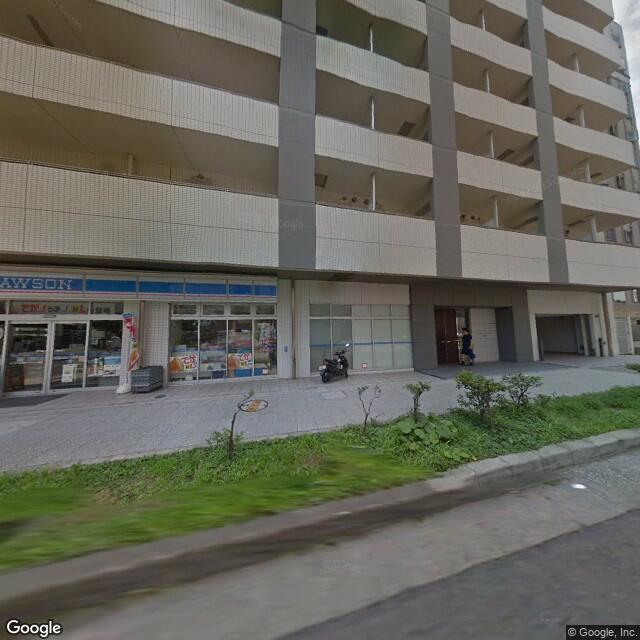lawson: (1, 264, 280, 307)
